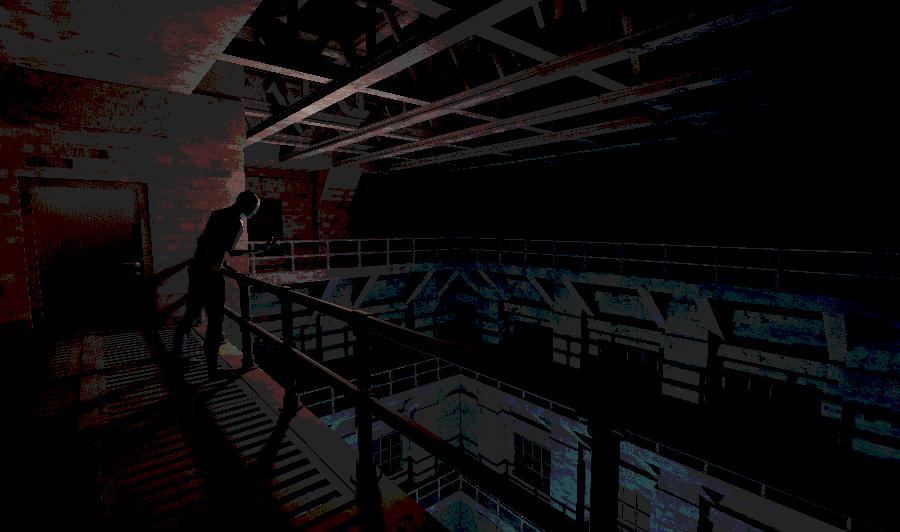door: (18, 182, 155, 338)
